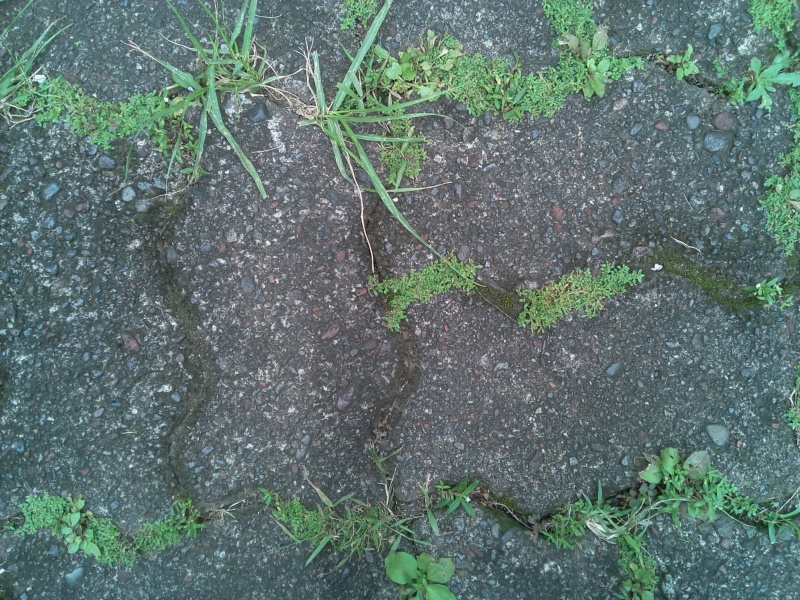Weed: (304, 47, 413, 202), (524, 1, 658, 104), (15, 492, 203, 565), (634, 447, 774, 538), (432, 31, 558, 125), (39, 78, 174, 157), (513, 260, 648, 334), (178, 25, 266, 121), (263, 496, 403, 554), (370, 95, 450, 190), (368, 258, 480, 325), (536, 497, 640, 556), (377, 37, 462, 108), (758, 137, 800, 259), (723, 53, 800, 114), (382, 552, 456, 600), (744, 1, 800, 57), (427, 474, 484, 522), (620, 559, 669, 600), (330, 1, 384, 35), (664, 46, 704, 89), (752, 278, 785, 310)
